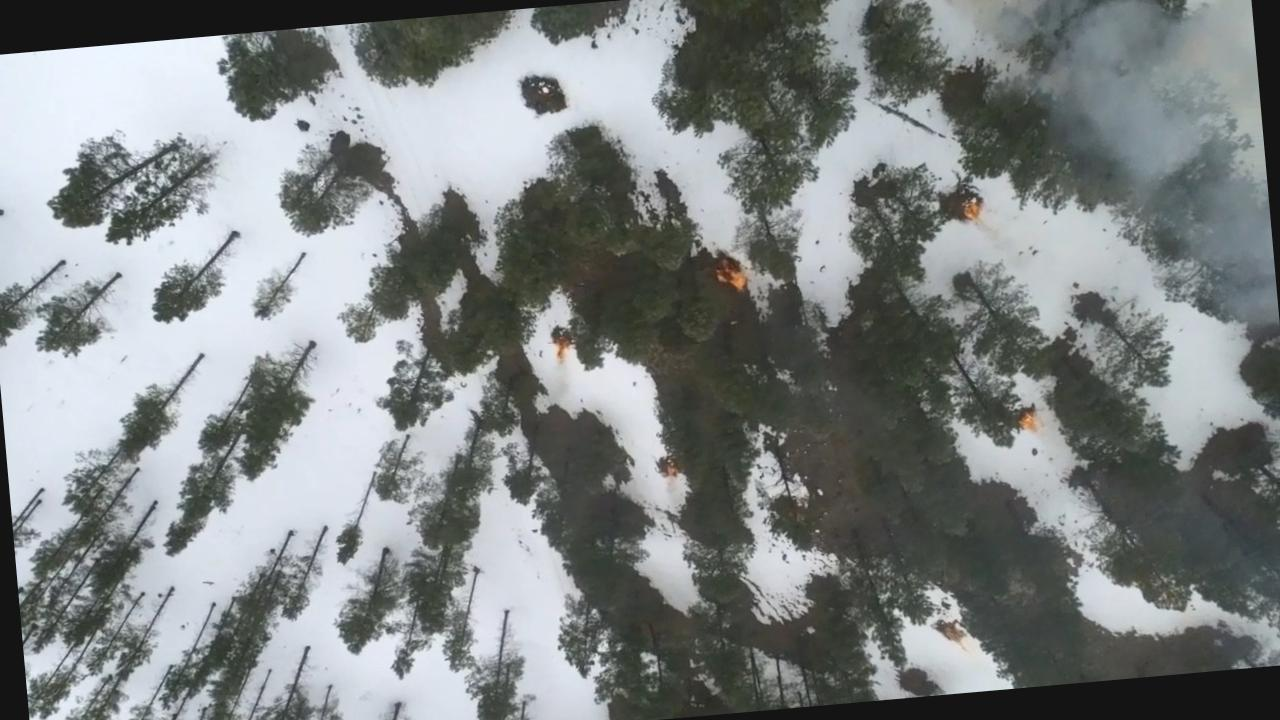fire: (708, 244, 752, 300), (956, 190, 990, 227), (1016, 405, 1048, 439)
smoke: (1001, 0, 1265, 180), (1136, 162, 1278, 322)
